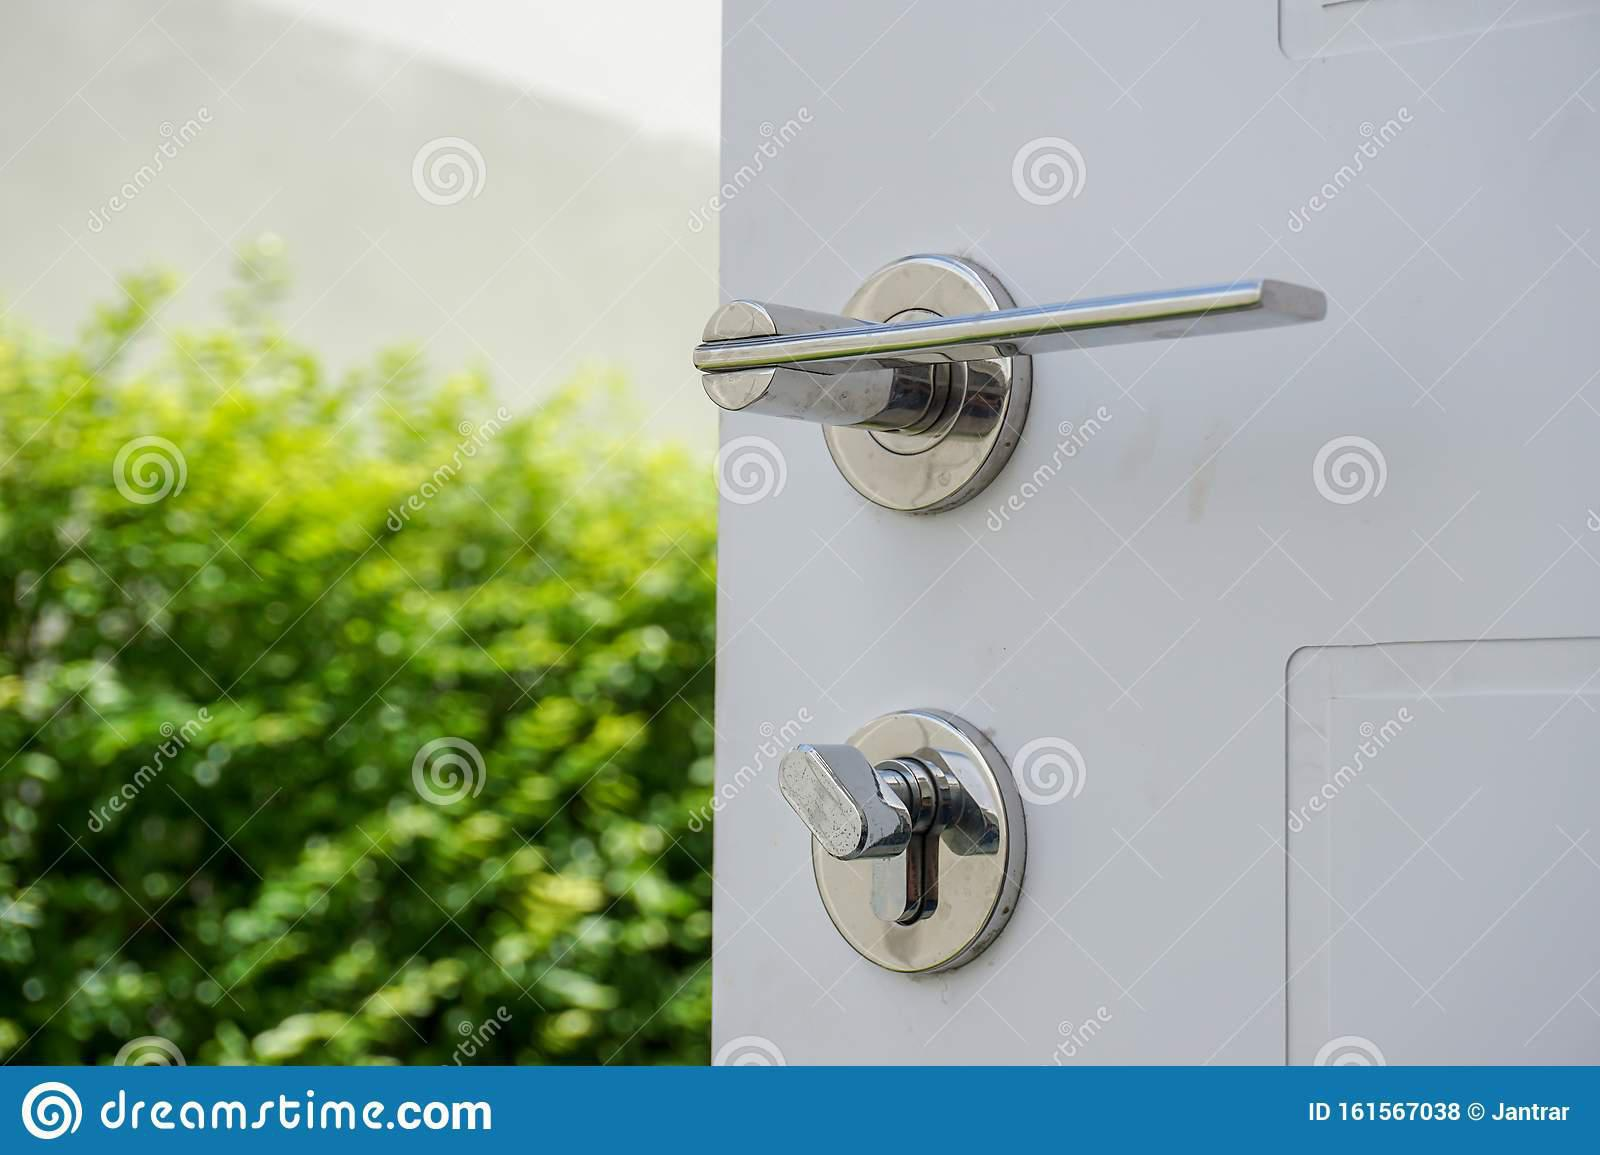doorhandle: (636, 178, 1342, 541)
